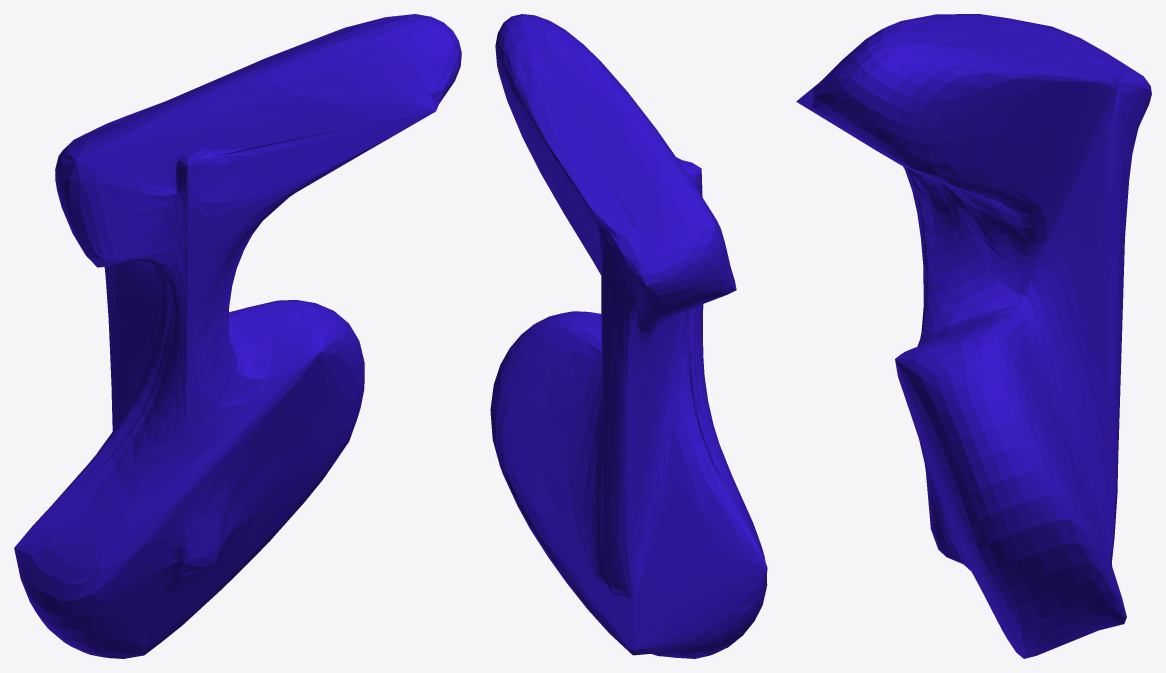
The picture shows the model from 3 angles, left to right: view 1: azimuth 30°, elevation 25°; view 2: azimuth 150°, elevation 25°; view 3: azimuth 270°, elevation 25°; orthographic projection. The views are drawn at different scales.
Visible parts, largest first — view 1: 013_Cube.063; view 2: 013_Cube.063; view 3: 013_Cube.063.
Part boxes in pixels (x1,y1,x2,y2): 013_Cube.063: (14, 14, 461, 658); 013_Cube.063: (490, 14, 767, 658); 013_Cube.063: (796, 14, 1151, 658).
Bounding box in the file's own units: 11.11 × 17.84 × 7.79.
